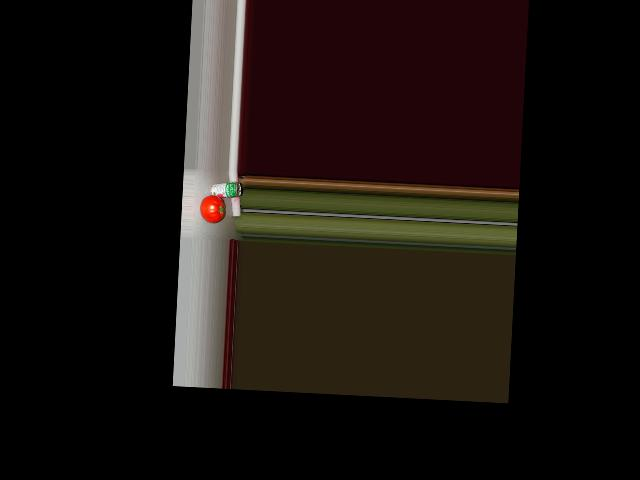tomato: (199, 195, 224, 223)
